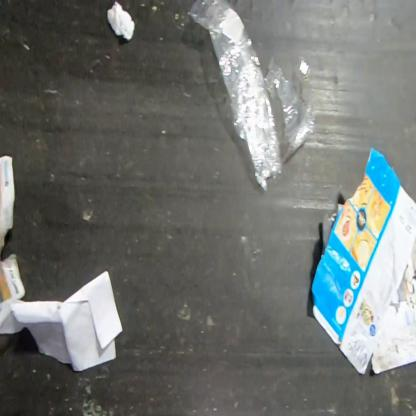soft_plastic: (184, 0, 317, 193)
